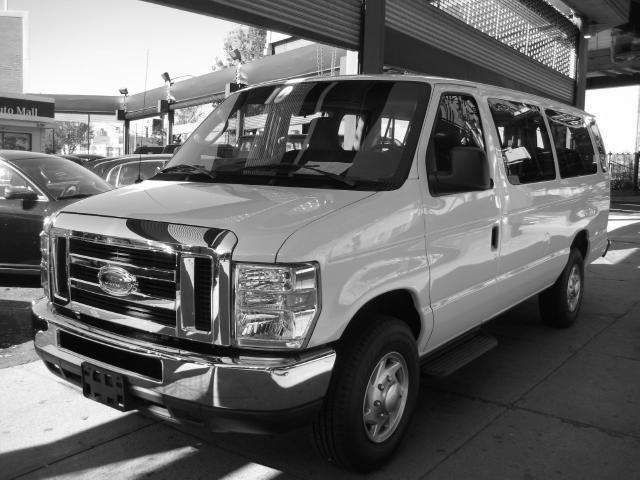car: (27, 67, 620, 474)
